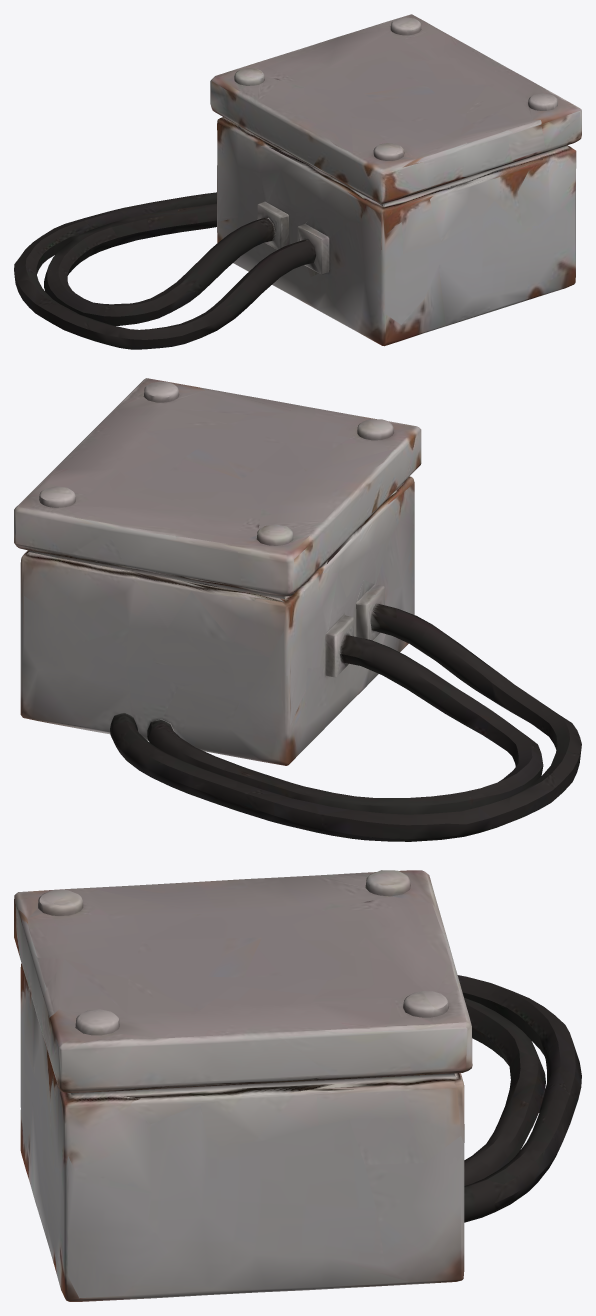
Rendered from decor_junction_box.glb.
The picture shows the model from 3 angles, top to bottom: view 1: azimuth 30°, elevation 25°; view 2: azimuth 150°, elevation 25°; view 3: azimuth 270°, elevation 25°; orthographic projection. The views are drawn at different scales.
Parts seen in each view (by area): view 1: body, lid; view 2: body, lid; view 3: body, lid.
Part boxes in pixels (bbox=[...]): body: bbox=[14, 107, 581, 349]; lid: bbox=[210, 14, 581, 200]; body: bbox=[14, 462, 581, 841]; lid: bbox=[14, 378, 421, 592]; body: bbox=[14, 936, 581, 1301]; lid: bbox=[14, 870, 472, 1088].
Bounding box in the file's own units: 0.7478 × 0.2999 × 0.5635.
Materials: 3 (3 with a texture image).
